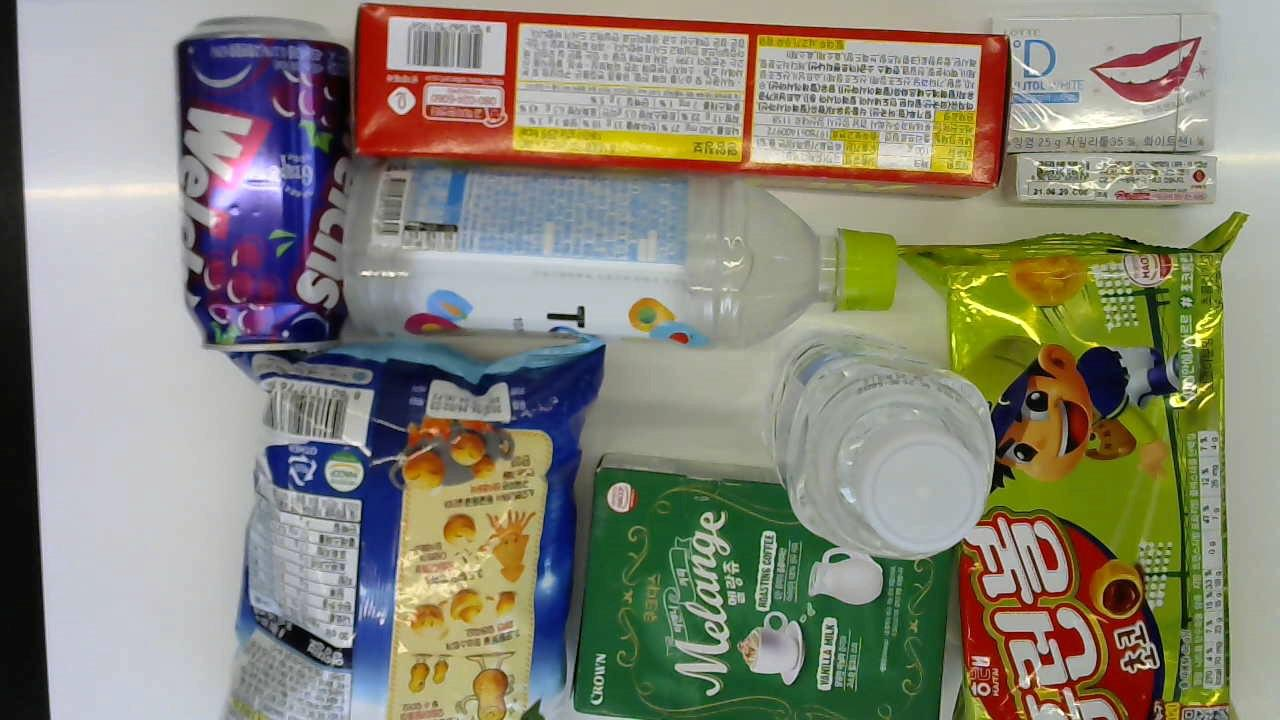ID_gum: (985, 10, 1219, 152)
couque_coffee: (571, 451, 940, 720)
homerunball: (953, 213, 1245, 720)
samdasu: (773, 350, 982, 557)
spearmint: (1010, 151, 1217, 209)
squid_peanut: (211, 339, 603, 719)
toreta: (344, 155, 903, 350)
welchs: (174, 19, 367, 347)
zec: (349, 2, 1000, 195)
